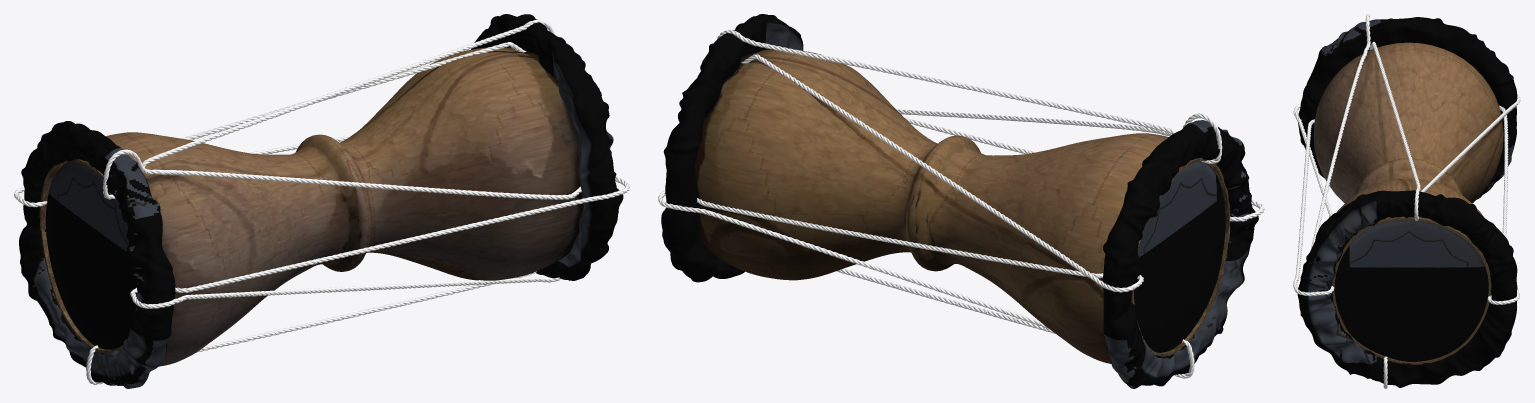
File: MULLA KURUMBAS.glb
3 views of the same model, side by side, from view 1: azimuth 30°, elevation 25°; view 2: azimuth 150°, elevation 25°; view 3: azimuth 270°, elevation 25° (orthographic). The views are drawn at different scales.
Parts seen in each view (by area): view 1: Cylinder, Torus.001, Circle, Torus.002, Cylinder.002; view 2: Cylinder, Torus.001, Circle, Torus.002, Cylinder.002; view 3: Cylinder, Torus.002, Torus.001, Circle, Cylinder.001.
Part boxes in pixels (x1,y1,x2,y2): Cylinder: [45, 47, 583, 366]; Torus.001: [19, 121, 175, 388]; Circle: [14, 19, 629, 384]; Torus.002: [471, 14, 623, 280]; Cylinder.002: [39, 159, 137, 353]; Cylinder: [694, 49, 1225, 363]; Torus.001: [1103, 120, 1258, 388]; Circle: [658, 30, 1264, 378]; Torus.002: [661, 14, 803, 282]; Cylinder.002: [1131, 158, 1230, 356]; Cylinder: [1313, 42, 1503, 361]; Torus.002: [1297, 190, 1517, 387]; Torus.001: [1297, 17, 1517, 199]; Circle: [1293, 14, 1520, 388]; Cylinder.001: [1332, 216, 1491, 364].
Bounding box in the file's own units: 0.3485 × 0.1696 × 0.1745.
7 materials, 6 textured.
